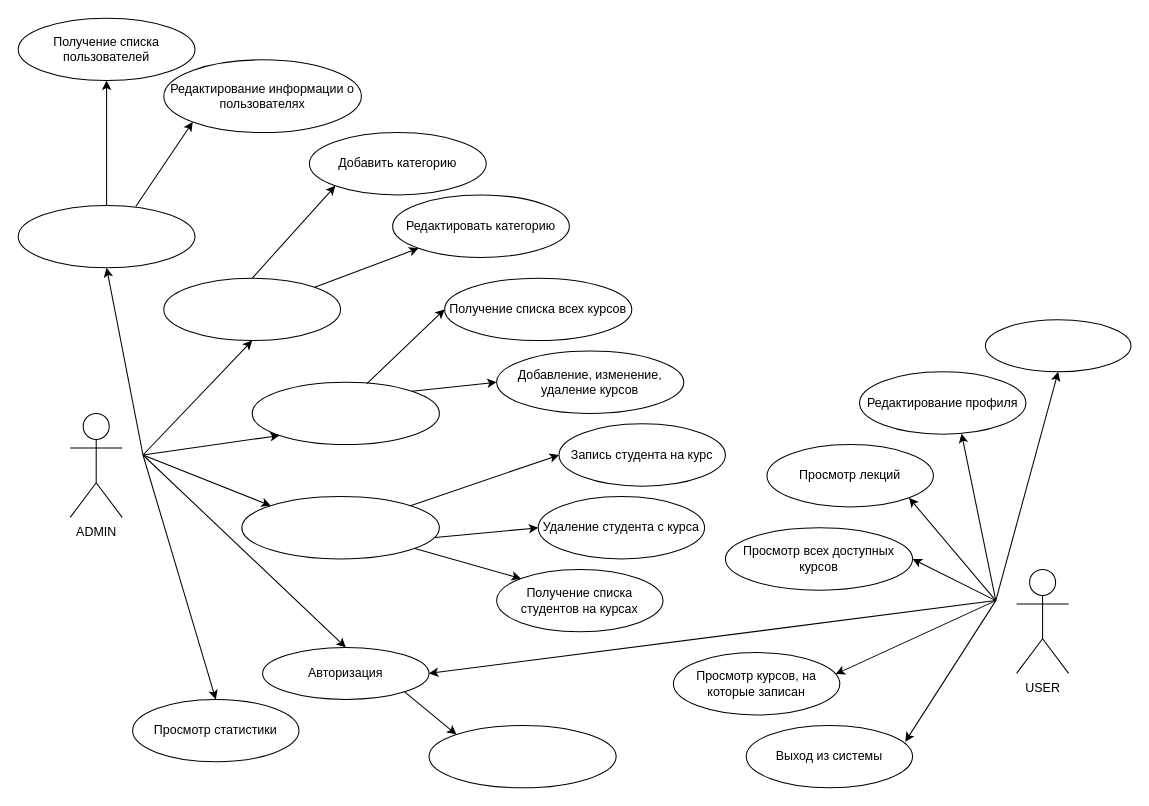
Some shapes in this 1149 by 806 pixel diagram are drawn without their labels. Each missing label, with the box of its shape:
Аутентификация: (428, 724, 616, 788)
Запись на курс: (984, 319, 1131, 372)
Управление категориями: (163, 277, 341, 341)
Управление курсами: (251, 381, 439, 445)
Управление пользователями: (17, 204, 195, 268)
Управление студентами по курсам: (241, 496, 439, 559)
